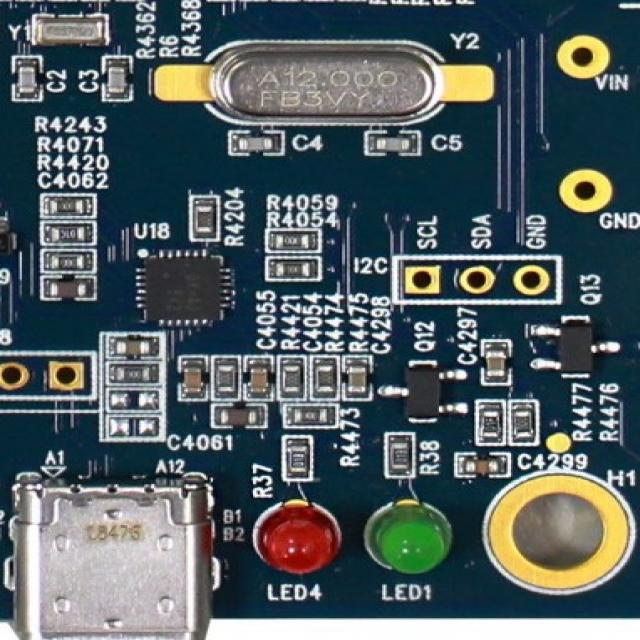4439: (539, 316, 601, 384), (395, 366, 452, 426)
IC: (137, 245, 226, 326)
LED: (249, 503, 335, 582), (381, 502, 448, 579)
capacitor 1V5: (474, 343, 512, 382), (217, 403, 269, 431), (230, 130, 279, 155), (13, 63, 43, 102), (365, 137, 417, 159), (49, 278, 96, 300), (117, 337, 158, 360), (462, 457, 517, 474), (105, 58, 127, 100), (347, 358, 371, 396), (188, 362, 209, 398), (248, 362, 268, 398)
clock Q1: (170, 31, 474, 125), (34, 19, 120, 49)
connector -5v-: (15, 474, 214, 640)
resistor IR1: (41, 245, 93, 277), (508, 402, 540, 448), (47, 192, 95, 222), (194, 197, 217, 244), (480, 401, 507, 441), (268, 231, 317, 252), (43, 225, 94, 245), (287, 438, 310, 482), (270, 261, 318, 282), (386, 440, 408, 476)
